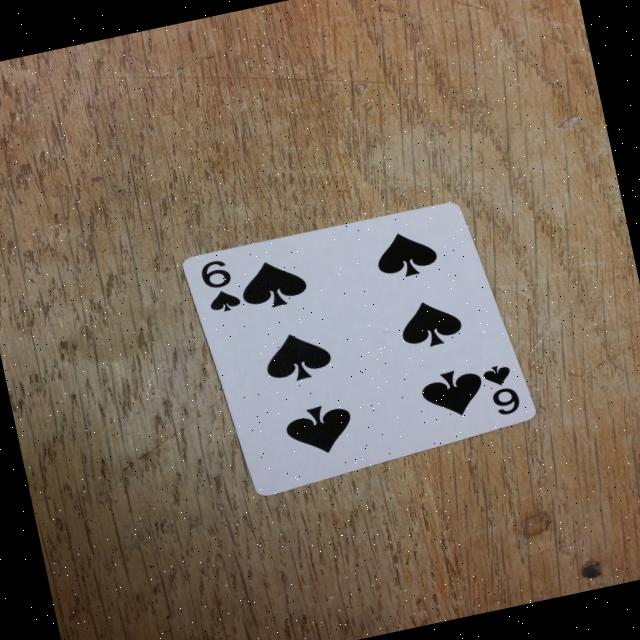6s: (193, 250, 252, 320), (477, 358, 532, 422)
